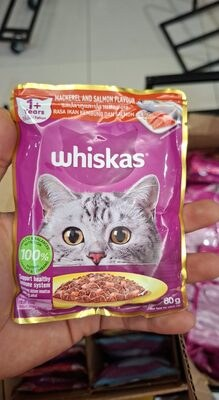whiskas mackrel: (11, 20, 208, 380)
